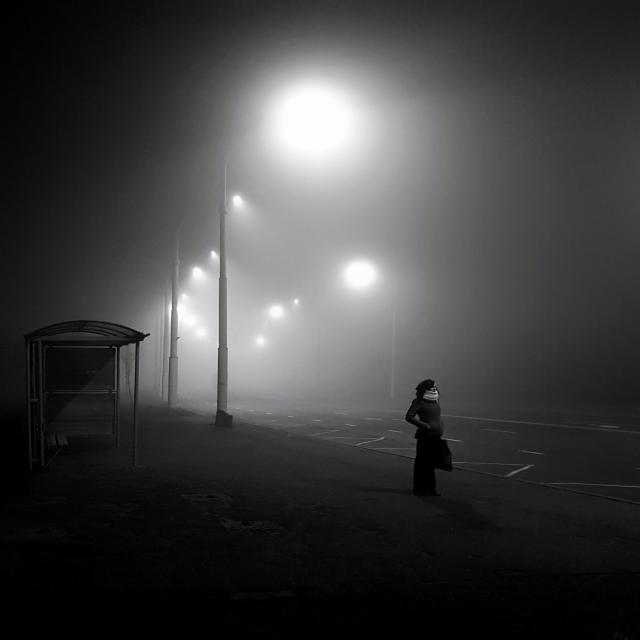adult: (404, 378, 454, 500)
